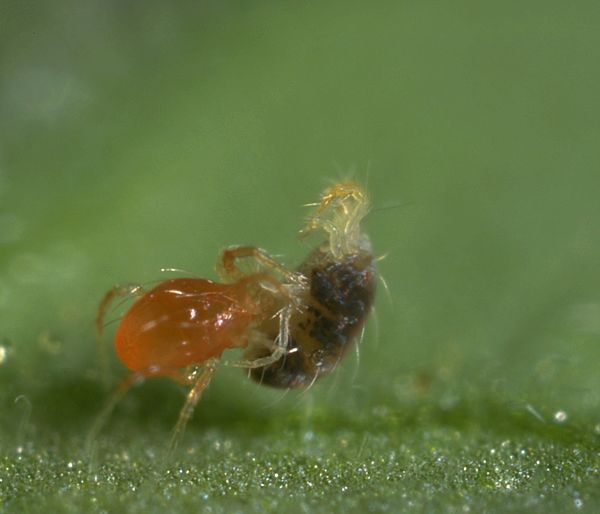Mites: (77, 183, 260, 427), (270, 161, 402, 443)
